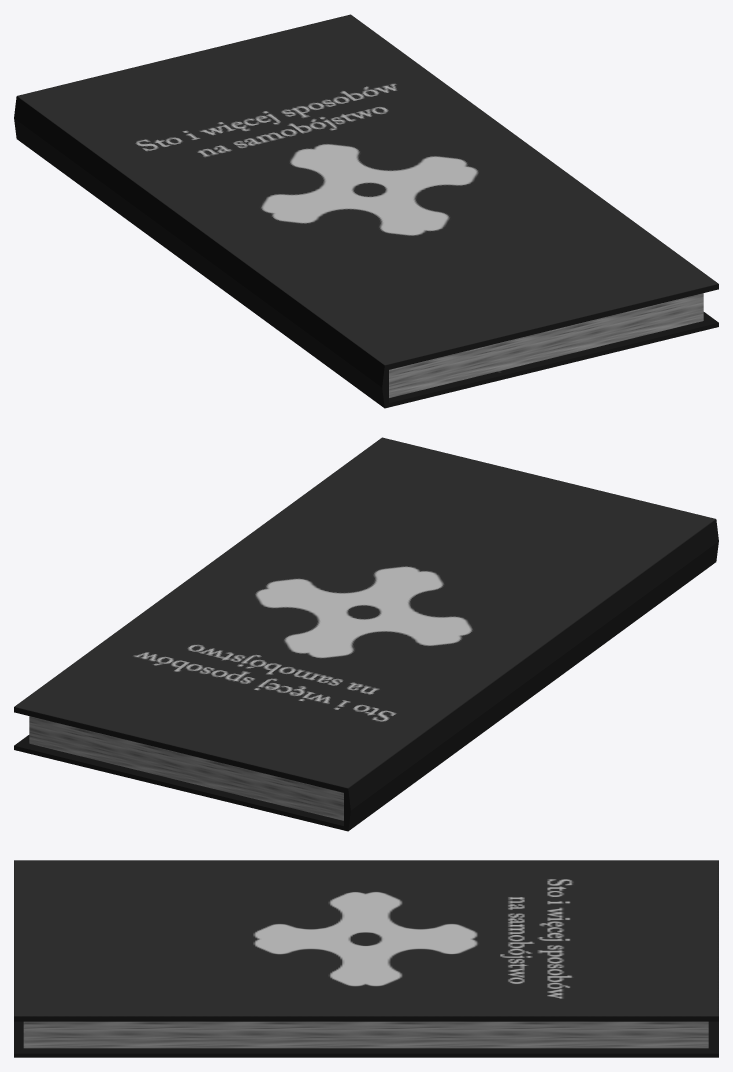
Rendered from Książka_Anona_1.fbx.
The picture shows the model from 3 angles, top to bottom: view 1: azimuth 30°, elevation 25°; view 2: azimuth 150°, elevation 25°; view 3: azimuth 270°, elevation 25°; orthographic projection. The views are drawn at different scales.
Parts seen in each view (by area): view 1: Książka_Anona_1; view 2: Książka_Anona_1; view 3: Książka_Anona_1.
Part boxes in pixels (x1,y1,x2,y2): Książka_Anona_1: (14,14,718,408); Książka_Anona_1: (14,437,718,831); Książka_Anona_1: (14,860,718,1057).
Size of the model in its own units: 23.8 by 2.9 by 45.06.
